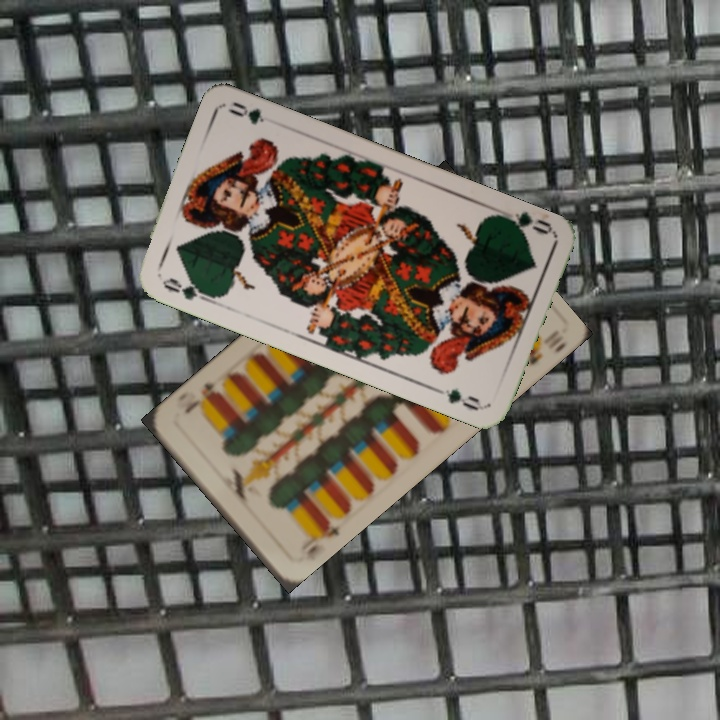E10: (292, 515, 343, 565)
GO: (158, 273, 214, 305), (494, 208, 554, 237)
